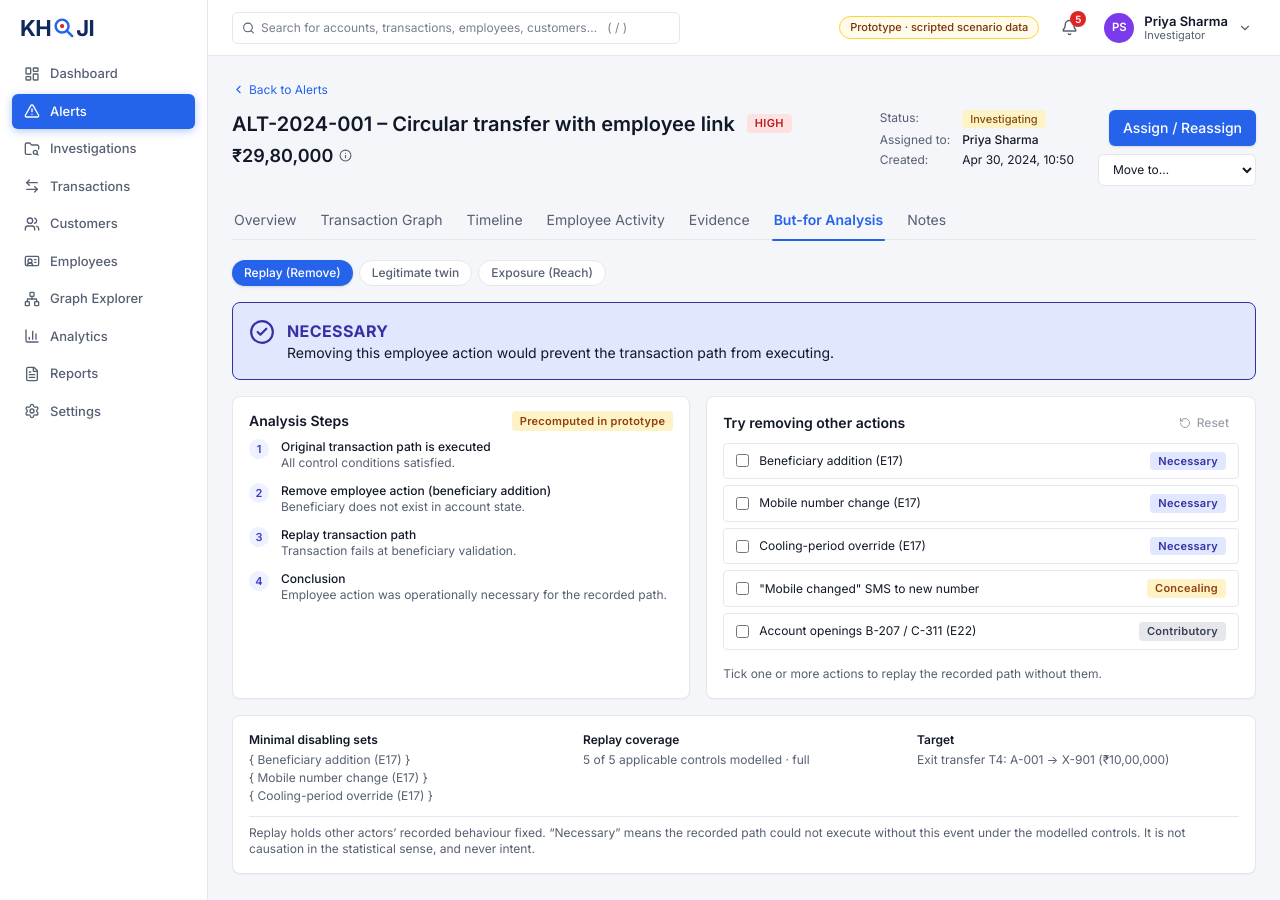
Test: But-for Replay UI › Reset restores the untouched state
Step 1. Click the checkbox labelled "Mobile number change (E17) Necessary" → (743, 504), box [736,497,749,510]
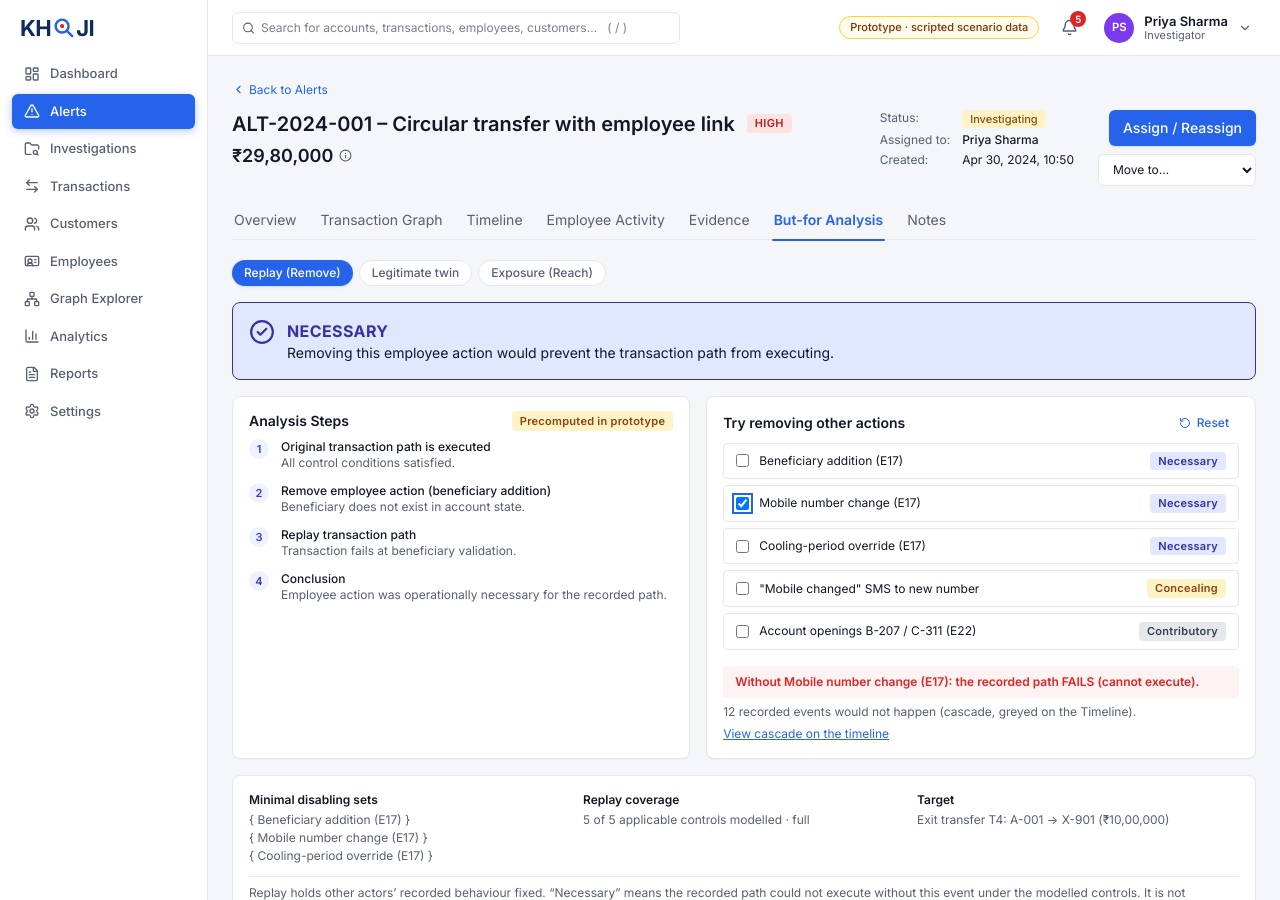
Step 2. Click the button "Reset" → (1204, 422), box [1169,410,1239,434]
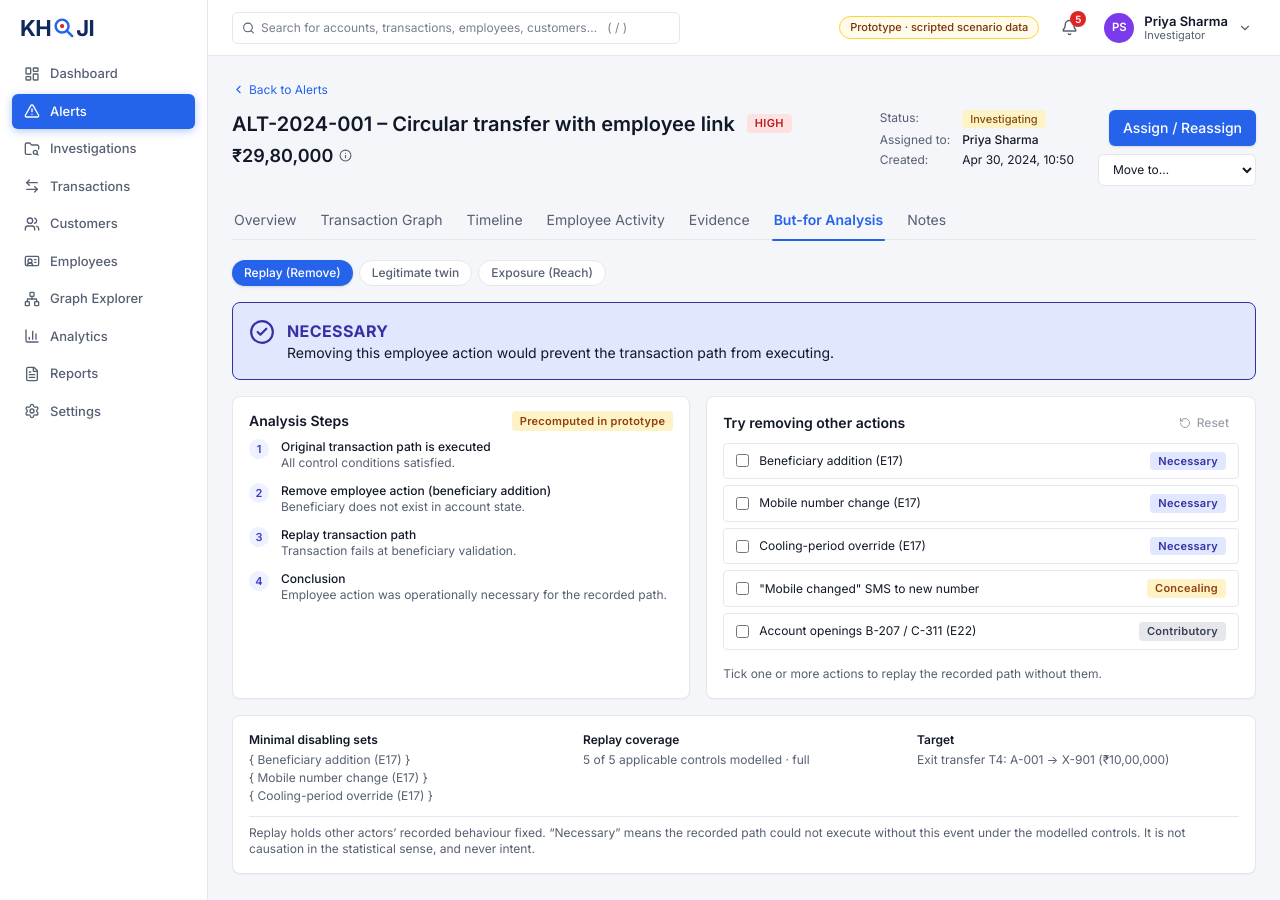
Now the checkbox labelled "Mobile number change (E17) Necessary" is not checked, box [736,497,749,510]
Now the element with test id "replay-outcome" shows "Tick one or more", box [723,666,1102,681]
